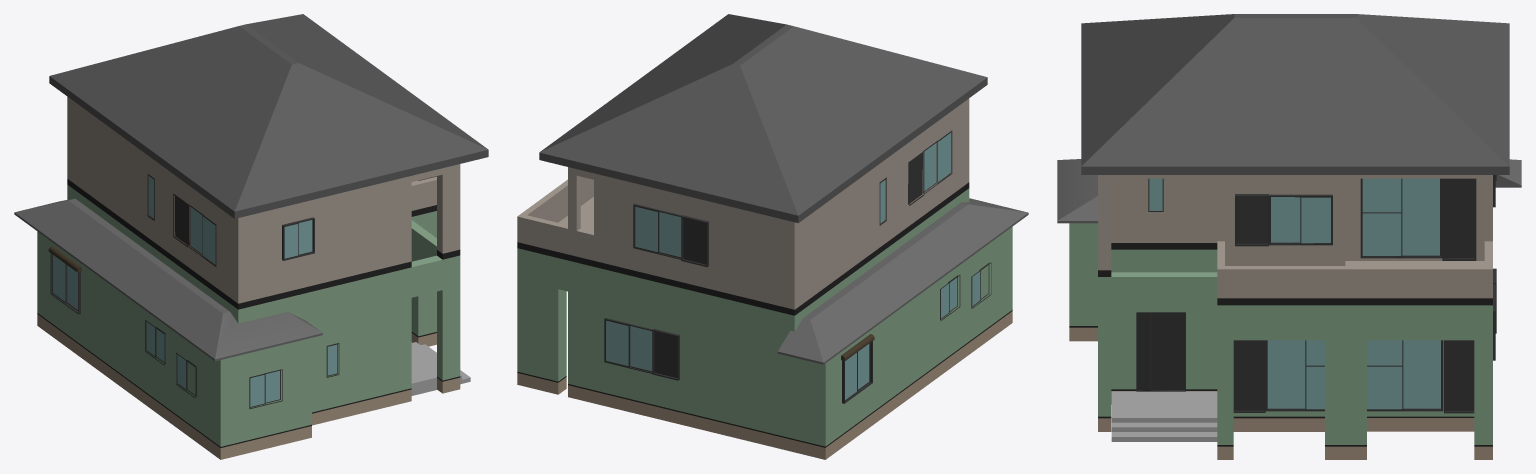
File: House_009_middle.fbx
The picture shows the model from 3 angles, left to right: view 1: azimuth 30°, elevation 25°; view 2: azimuth 150°, elevation 25°; view 3: azimuth 270°, elevation 25°; orthographic projection. The views are drawn at different scales.
Visible parts, largest first — view 1: polySurface13; view 2: polySurface13; view 3: polySurface13.
Part boxes in pixels (x1,y1,x2,y2): polySurface13: (14, 14, 488, 459); polySurface13: (517, 14, 1028, 459); polySurface13: (1057, 14, 1521, 459).
Size of the model in its own units: 8.45 by 7.98 by 9.4.
